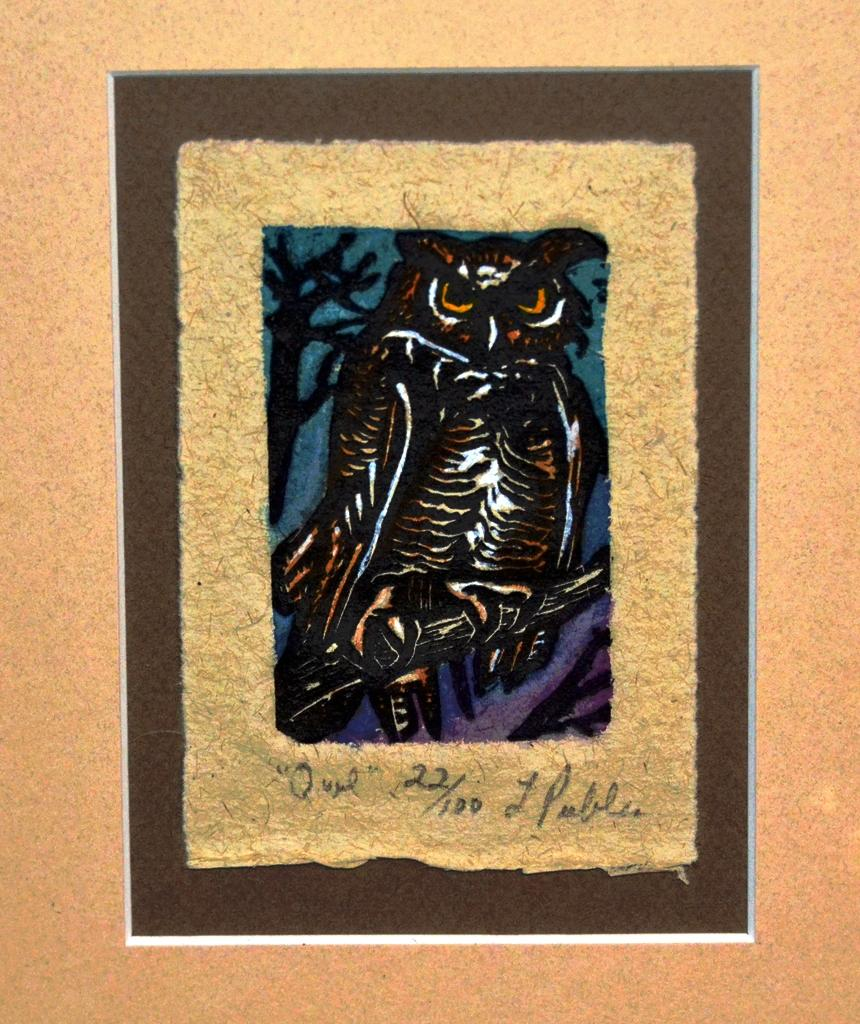Owl: (267, 230, 612, 746)
